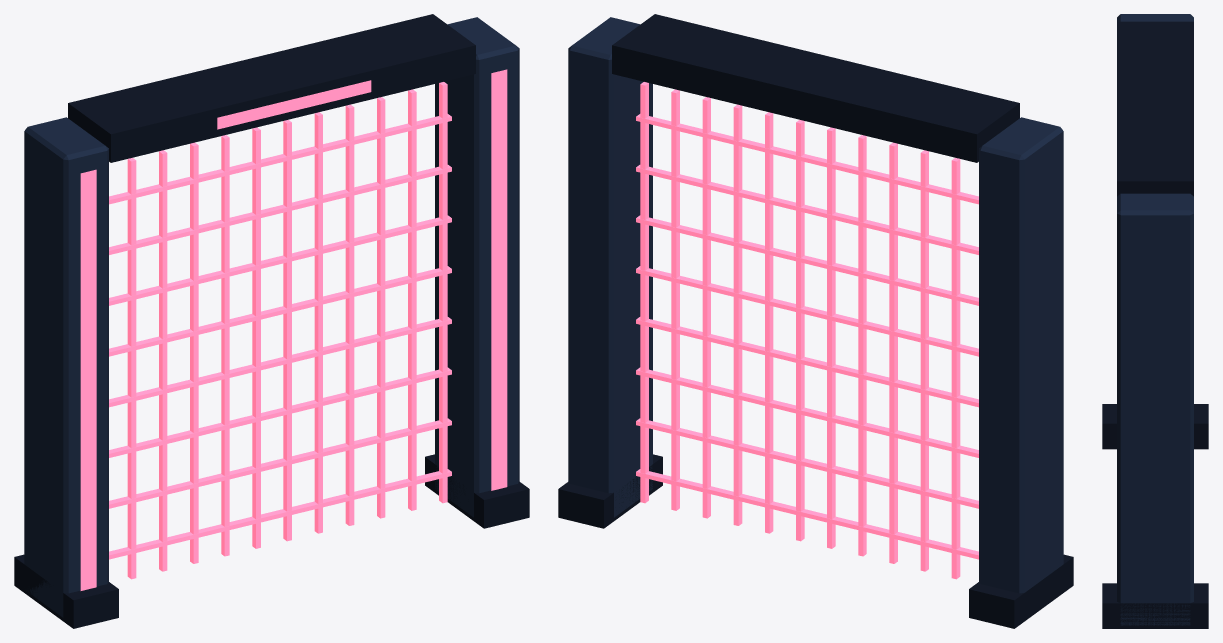
Rendered from Firewall.fbx.
The picture shows the model from 3 angles, left to right: view 1: azimuth 30°, elevation 25°; view 2: azimuth 150°, elevation 25°; view 3: azimuth 270°, elevation 25°; orthographic projection. The views are drawn at different scales.
Visible parts, largest first — view 1: KIT_Firewall_Frame, KIT_Firewall_Barrier; view 2: KIT_Firewall_Frame, KIT_Firewall_Barrier; view 3: KIT_Firewall_Frame.
Part boxes in pixels (x1=…): KIT_Firewall_Frame: x1=14, y1=14, x2=529, y2=628; KIT_Firewall_Barrier: x1=109, y1=82, x2=451, y2=579; KIT_Firewall_Frame: x1=558, y1=14, x2=1073, y2=628; KIT_Firewall_Barrier: x1=636, y1=82, x2=978, y2=579; KIT_Firewall_Frame: x1=1102, y1=14, x2=1208, y2=628.
Size of the model in its own units: 4 by 4 by 0.9.
